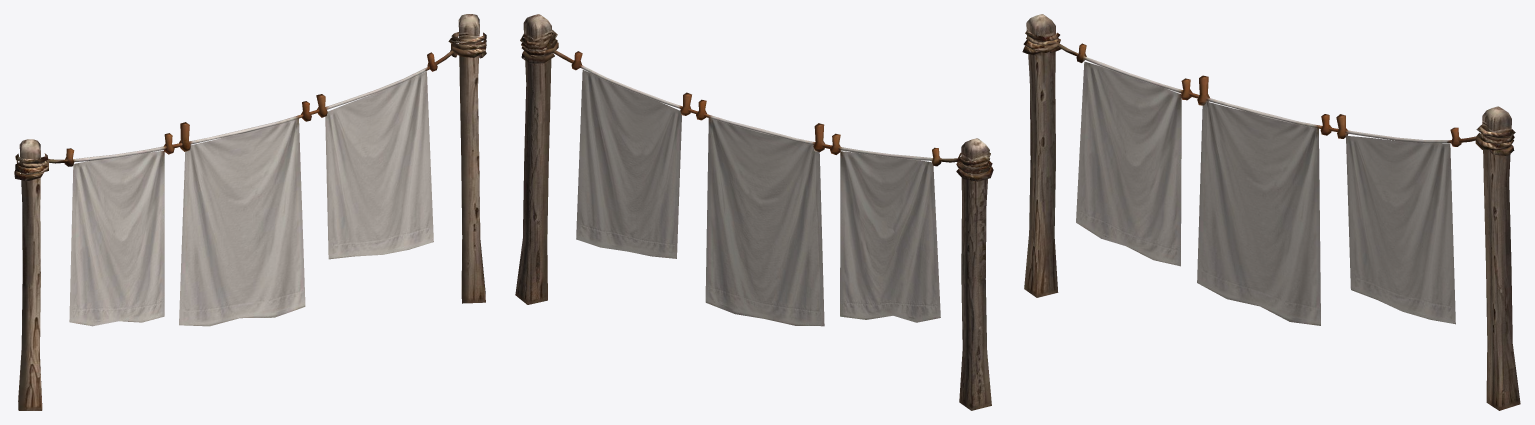
File: act1-a23-6-drying-line.glb
3 renders of one model, left to right at view 1: azimuth 30°, elevation 25°; view 2: azimuth 150°, elevation 25°; view 3: azimuth 330°, elevation 25°, orthographic. The views are drawn at different scales.
Visible parts, largest first — view 1: act1-a23-6-drying-line; view 2: act1-a23-6-drying-line; view 3: act1-a23-6-drying-line.
Part boxes in pixels (box(x1,y1,x2,y2)): act1-a23-6-drying-line: box(14, 14, 486, 410); act1-a23-6-drying-line: box(515, 14, 993, 410); act1-a23-6-drying-line: box(1022, 14, 1520, 410).
Size of the model in its own units: 3.83 by 2.2 by 0.2683.
Materials: 1 (1 with a texture image).
